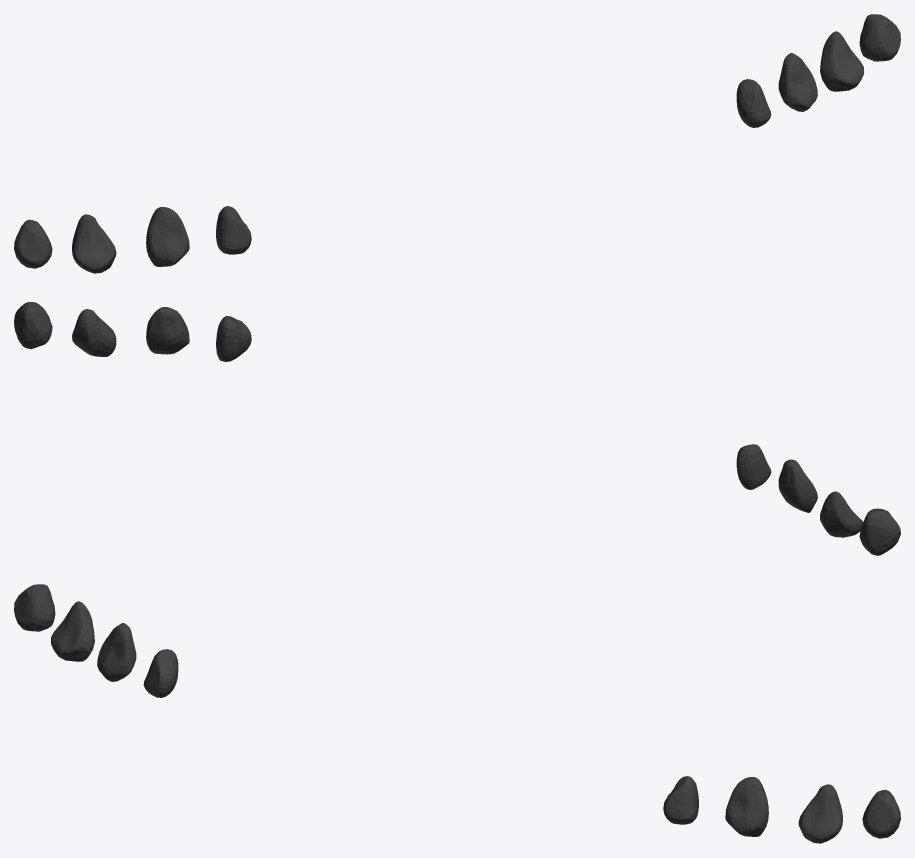
The model's file is b_sesamoid_FL_proximal_L_LO.glb.
The picture shows the model from 3 angles, top to bottom: view 1: azimuth 30°, elevation 25°; view 2: azimuth 150°, elevation 25°; view 3: azimuth 330°, elevation 25°; orthographic projection.
Parts seen in each view (by area): view 1: b_sesamoid_FL_proximal_L_LO; view 2: b_sesamoid_FL_proximal_L_LO; view 3: b_sesamoid_FL_proximal_L_LO.
Part boxes in pixels (box(x1,y1,x2,y2)): b_sesamoid_FL_proximal_L_LO: box(14, 14, 900, 273); b_sesamoid_FL_proximal_L_LO: box(14, 302, 900, 555); b_sesamoid_FL_proximal_L_LO: box(14, 584, 900, 843).
Bounding box in the file's own units: 0.00314 × 0.000187 × 0.000348.
Materials: 1 (1 with a texture image).
